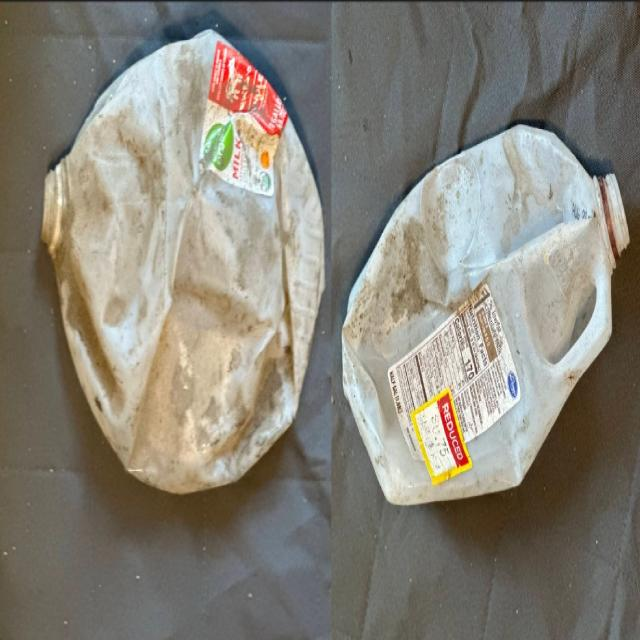milk-jug: (41, 29, 325, 488), (341, 123, 627, 503)
